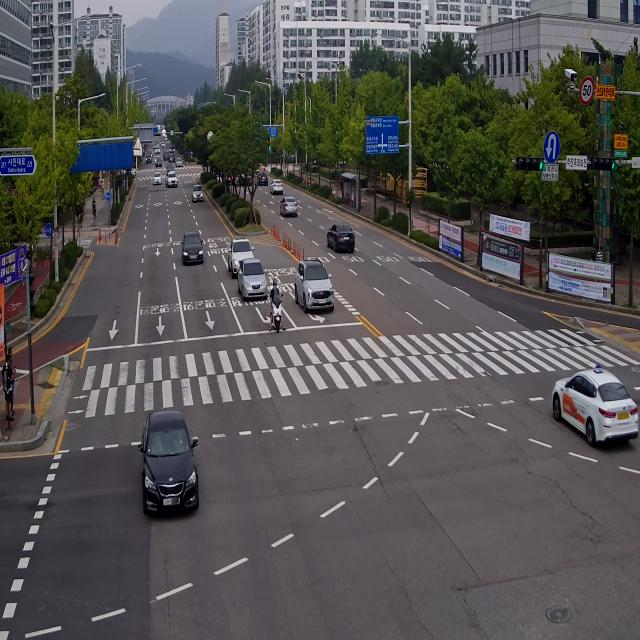Car: (541, 347, 640, 451), (135, 396, 206, 524), (289, 248, 337, 319), (231, 253, 272, 303), (177, 226, 210, 276), (223, 233, 259, 275), (322, 220, 360, 258), (277, 192, 302, 218), (190, 181, 207, 208), (164, 170, 180, 192), (269, 174, 284, 196), (152, 168, 164, 189), (256, 168, 268, 187), (166, 162, 176, 174), (176, 156, 185, 167), (168, 152, 176, 162), (145, 153, 152, 164), (156, 157, 162, 168), (162, 150, 168, 160), (154, 155, 160, 164), (155, 146, 161, 154), (170, 146, 175, 152)
Motorcycle: (265, 268, 290, 342)
